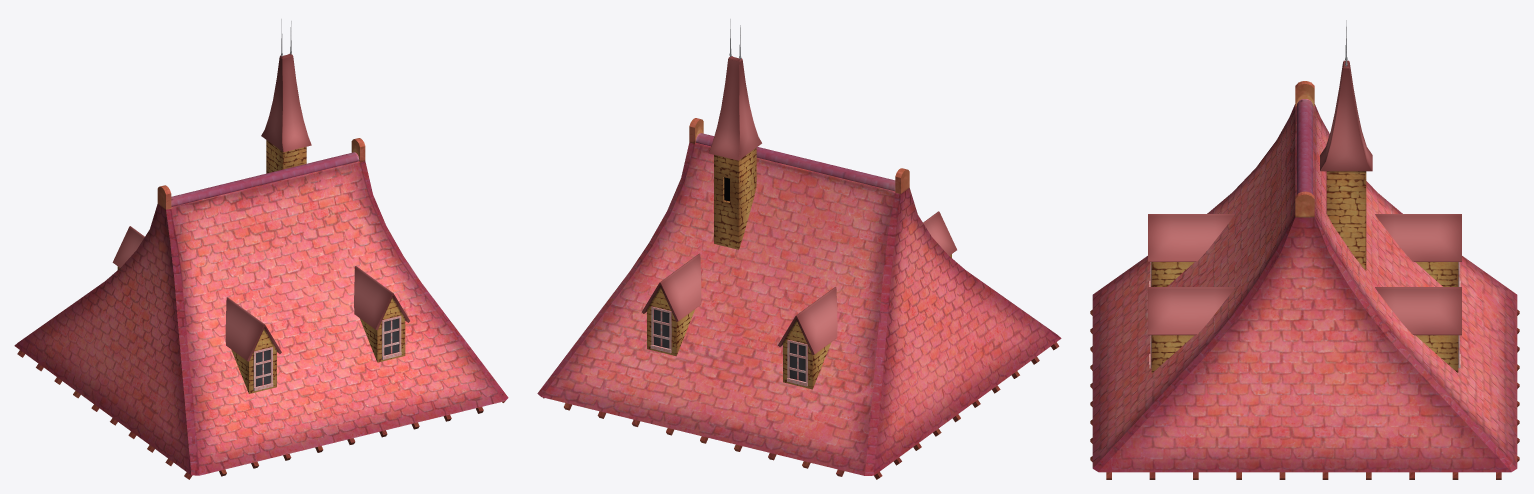
The model's file is sb_obj_outdoor024_PrincessCastle01_roof01.fbx.
3 views of the same model, side by side, from view 1: azimuth 30°, elevation 25°; view 2: azimuth 150°, elevation 25°; view 3: azimuth 270°, elevation 25° (orthographic). The views are drawn at different scales.
Parts seen in each view (by area): view 1: sb_obj_outdoor024_PrincessCastle01_roof01; view 2: sb_obj_outdoor024_PrincessCastle01_roof01; view 3: sb_obj_outdoor024_PrincessCastle01_roof01.
Part boxes in pixels (<box>): sb_obj_outdoor024_PrincessCastle01_roof01: <box>14,19,508,479</box>; sb_obj_outdoor024_PrincessCastle01_roof01: <box>537,19,1061,479</box>; sb_obj_outdoor024_PrincessCastle01_roof01: <box>1090,20,1519,479</box>.
Bounding box in the file's own units: 9.98 × 10.15 × 9.92.
